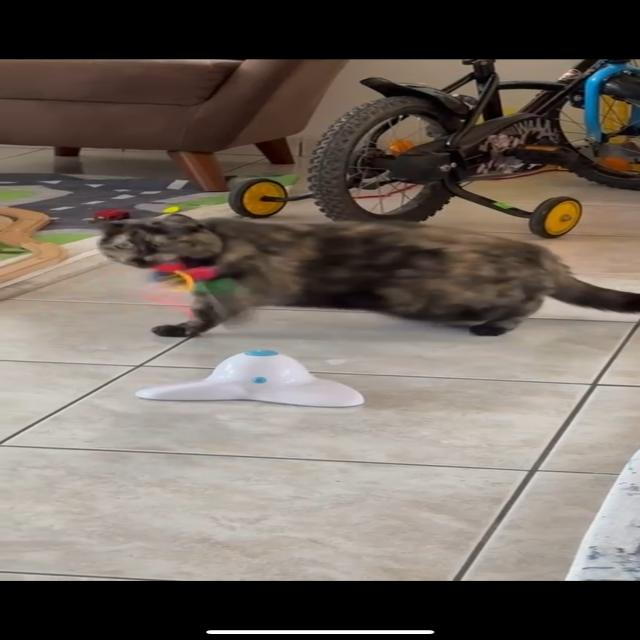authorized: (91, 212, 638, 338)
